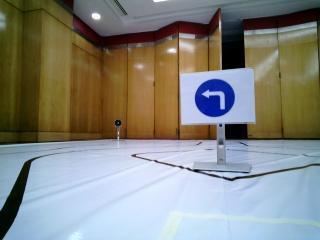left: (183, 71, 253, 127)
